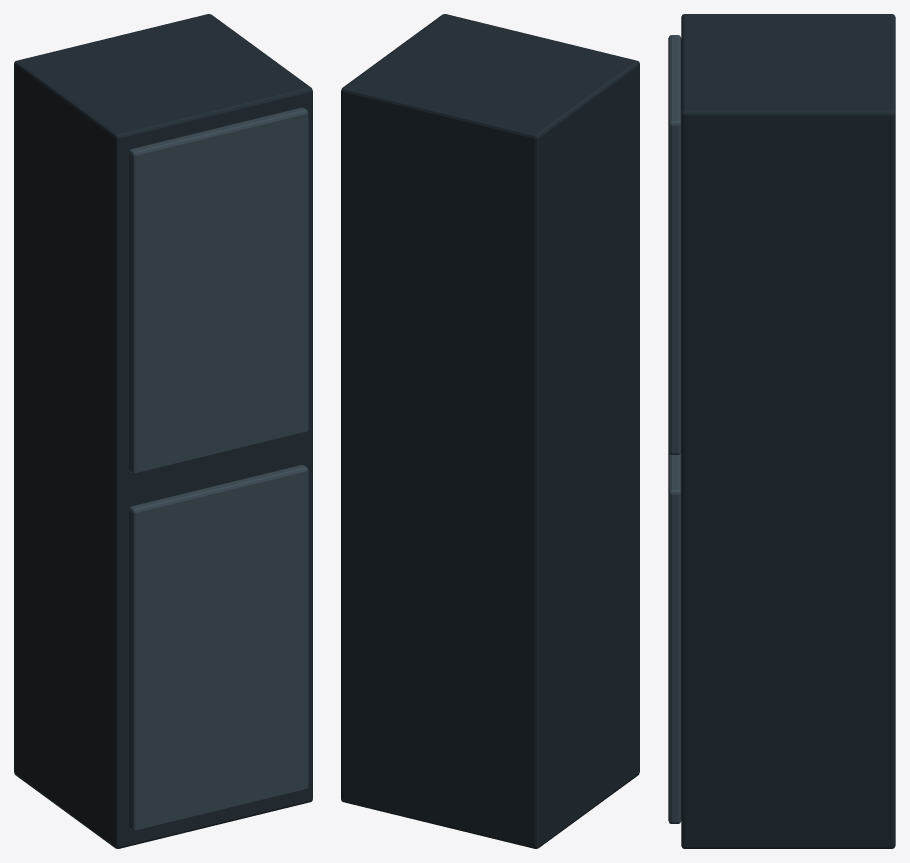
Rendered from CC_S16_P2_Expansion_Staff_Locker_LOD0.fbx.
The picture shows the model from 3 angles, left to right: view 1: azimuth 30°, elevation 25°; view 2: azimuth 150°, elevation 25°; view 3: azimuth 270°, elevation 25°; orthographic projection. The views are drawn at different scales.
Parts seen in each view (by area): view 1: CC_S16_P2_Expansion_Staff_Locker_LOD0_Body, CC_S16_P2_Expansion_Staff_Locker_LOD0_Door.001, CC_S16_P2_Expansion_Staff_Locker_LOD0_Door; view 2: CC_S16_P2_Expansion_Staff_Locker_LOD0_Body; view 3: CC_S16_P2_Expansion_Staff_Locker_LOD0_Body, CC_S16_P2_Expansion_Staff_Locker_LOD0_Door.001, CC_S16_P2_Expansion_Staff_Locker_LOD0_Door.
Boxes of the visible parts, box(x1,y1,x2,y2) form: CC_S16_P2_Expansion_Staff_Locker_LOD0_Body: box(14, 14, 312, 848); CC_S16_P2_Expansion_Staff_Locker_LOD0_Door.001: box(128, 107, 308, 474); CC_S16_P2_Expansion_Staff_Locker_LOD0_Door: box(128, 465, 308, 831); CC_S16_P2_Expansion_Staff_Locker_LOD0_Body: box(341, 14, 639, 848); CC_S16_P2_Expansion_Staff_Locker_LOD0_Body: box(681, 14, 895, 848); CC_S16_P2_Expansion_Staff_Locker_LOD0_Door.001: box(668, 35, 681, 454); CC_S16_P2_Expansion_Staff_Locker_LOD0_Door: box(668, 452, 681, 823).
Size of what is drawn, in the model's own units: 0.55 by 1.9 by 0.53.
